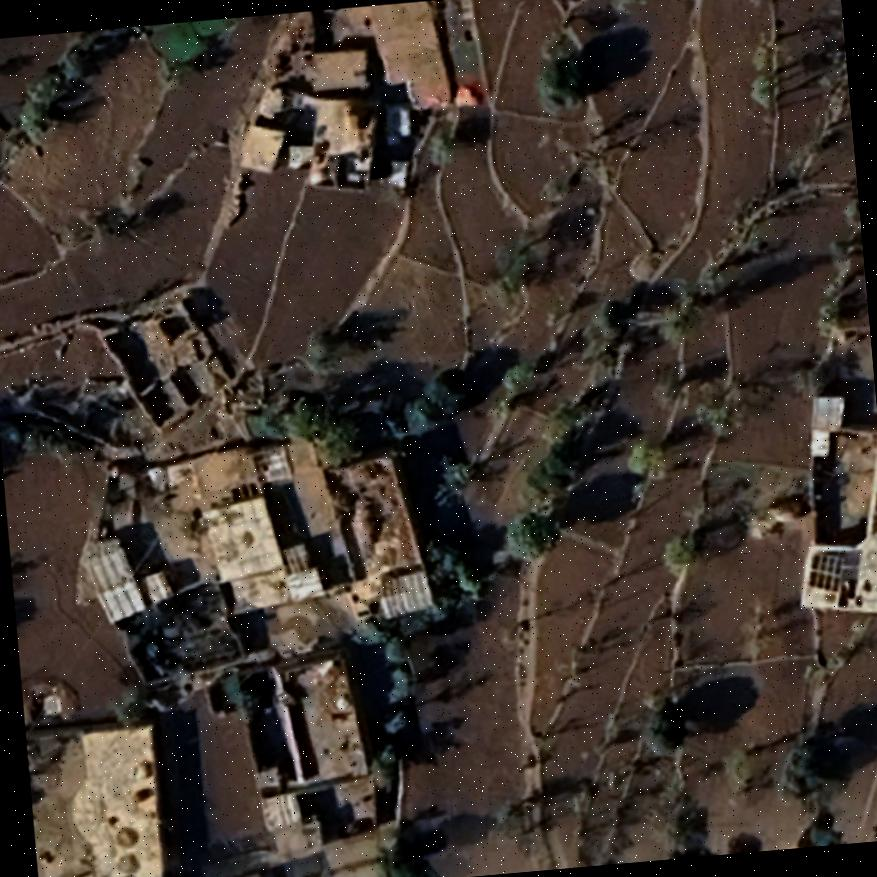Solarpanel: (804, 548, 844, 592)
